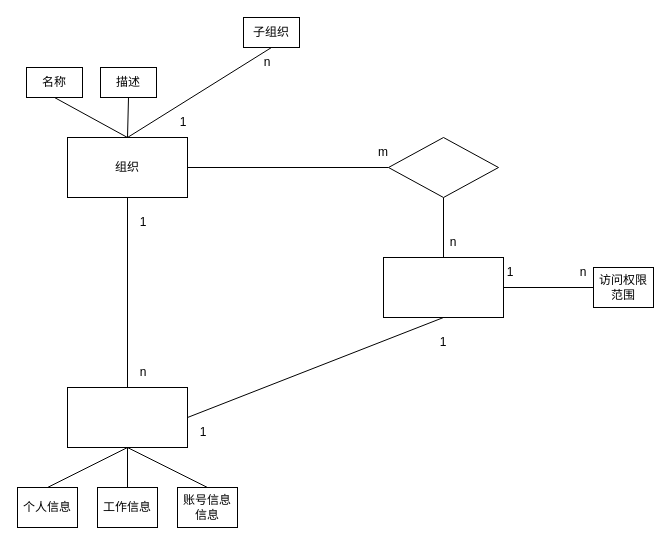
Some shapes in this 671 by 545 pixel diagram are drawn without their labels. The shapes that lost their labels are listed below. From the top down, each one's centre as x and y in pixels, then its label:
At (443,167): "拥有".
At (443,287): "角色".
At (127,417): "人员".
